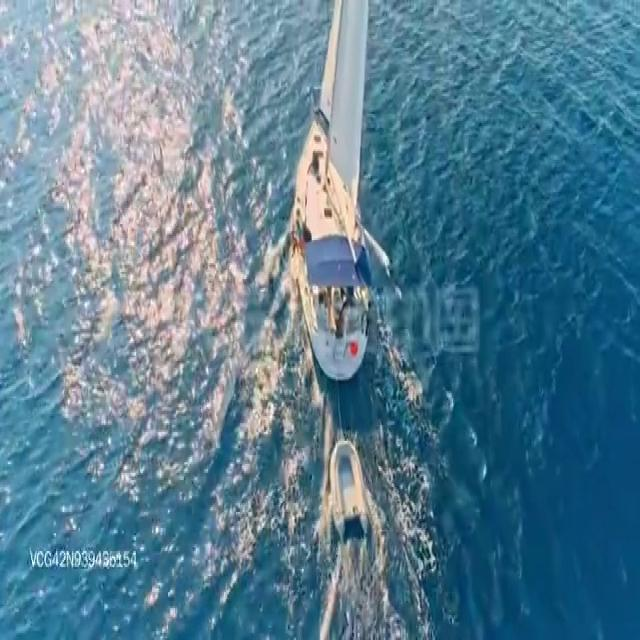sailboat: (281, 0, 385, 383)
